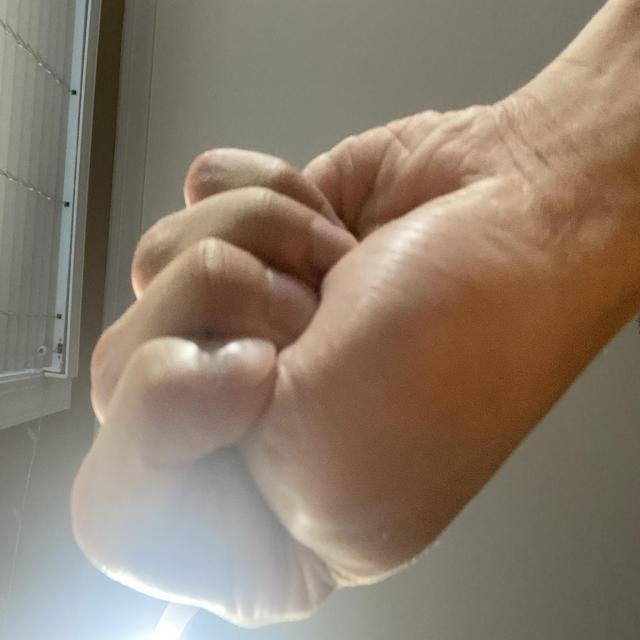M: (7, 83, 418, 640)
